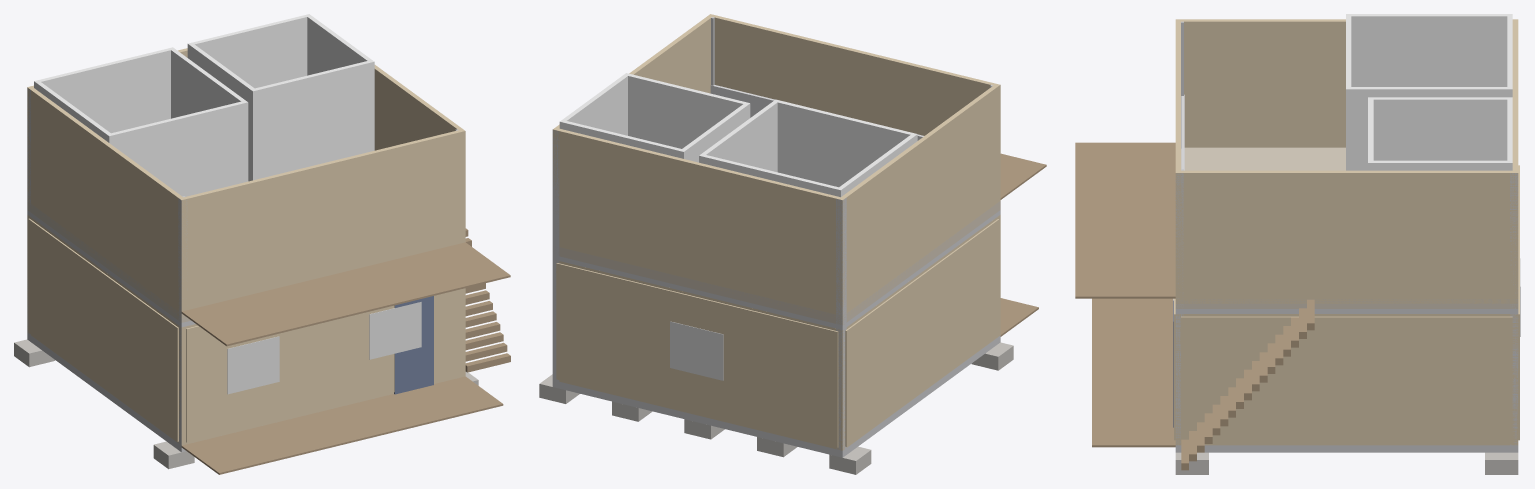
The model's file is Duplex-20-Base-LightBrownSand-LOD0.glb.
The picture shows the model from 3 angles, left to right: view 1: azimuth 30°, elevation 25°; view 2: azimuth 150°, elevation 25°; view 3: azimuth 270°, elevation 25°; orthographic projection. The views are drawn at different scales.
Visible parts, largest first — view 1: ExteriorShellUpper, ExteriorPanelsStandard, StudyUpper, BedroomUpper, BalconyUpper, BalconyGround, WindowsStandard, StaircaseExternal, ExteriorShell, EntryDoor, FoundationBlocks, FloorUpper (+3 smaller); view 2: ExteriorShellUpper, ExteriorPanelsStandard, BedroomUpper, StudyUpper, FloorUpper, VerticalStructure, FoundationBlocks, BaseFrame, ExteriorShell, WindowsStandard, TopFrame, BalconyUpper (+2 smaller); view 3: ExteriorShellUpper, ExteriorPanelsStandard, BalconyUpper, BedroomUpper, BalconyGround, StudyUpper, FloorUpper, StaircaseExternal, ExteriorShell, BaseFrame, VerticalStructure, TopFrame (+1 smaller).
Part boxes in pixels (bbox=[...]): ExteriorShellUpper: bbox=[27, 48, 465, 317]; ExteriorPanelsStandard: bbox=[28, 218, 461, 442]; StudyUpper: bbox=[187, 14, 374, 181]; BedroomUpper: bbox=[34, 47, 248, 196]; BalconyUpper: bbox=[181, 242, 510, 346]; BalconyGround: bbox=[181, 376, 503, 474]; WindowsStandard: bbox=[227, 302, 421, 394]; StaircaseExternal: bbox=[465, 228, 510, 372]; ExteriorShell: bbox=[27, 215, 465, 445]; EntryDoor: bbox=[394, 296, 433, 394]; FoundationBlocks: bbox=[14, 339, 478, 469]; FloorUpper: bbox=[27, 201, 190, 322]; ExteriorShellUpper: bbox=[552, 14, 1000, 318]; ExteriorPanelsStandard: bbox=[556, 219, 999, 447]; BedroomUpper: bbox=[699, 99, 917, 197]; StudyUpper: bbox=[559, 73, 750, 162]; FloorUpper: bbox=[558, 201, 1000, 325]; VerticalStructure: bbox=[552, 17, 998, 449]; FoundationBlocks: bbox=[539, 342, 1013, 474]; BaseFrame: bbox=[552, 335, 1000, 457]; ExteriorShell: bbox=[556, 215, 1000, 450]; WindowsStandard: bbox=[670, 321, 723, 380]; TopFrame: bbox=[555, 210, 1000, 329]; BalconyUpper: bbox=[1000, 153, 1046, 199]; ExteriorShellUpper: bbox=[1175, 19, 1518, 303]; ExteriorPanelsStandard: bbox=[1174, 165, 1519, 443]; BalconyUpper: bbox=[1075, 142, 1175, 298]; BedroomUpper: bbox=[1346, 14, 1512, 170]; BalconyGround: bbox=[1092, 298, 1175, 447]; StudyUpper: bbox=[1368, 97, 1512, 170]; FloorUpper: bbox=[1175, 147, 1518, 308]; StaircaseExternal: bbox=[1181, 299, 1314, 470]; ExteriorShell: bbox=[1175, 314, 1518, 445]; BaseFrame: bbox=[1175, 445, 1518, 452]; VerticalStructure: bbox=[1175, 21, 1518, 445]; TopFrame: bbox=[1175, 309, 1518, 313].
Bounding box in the file's own units: 7.94 × 6 × 8.
